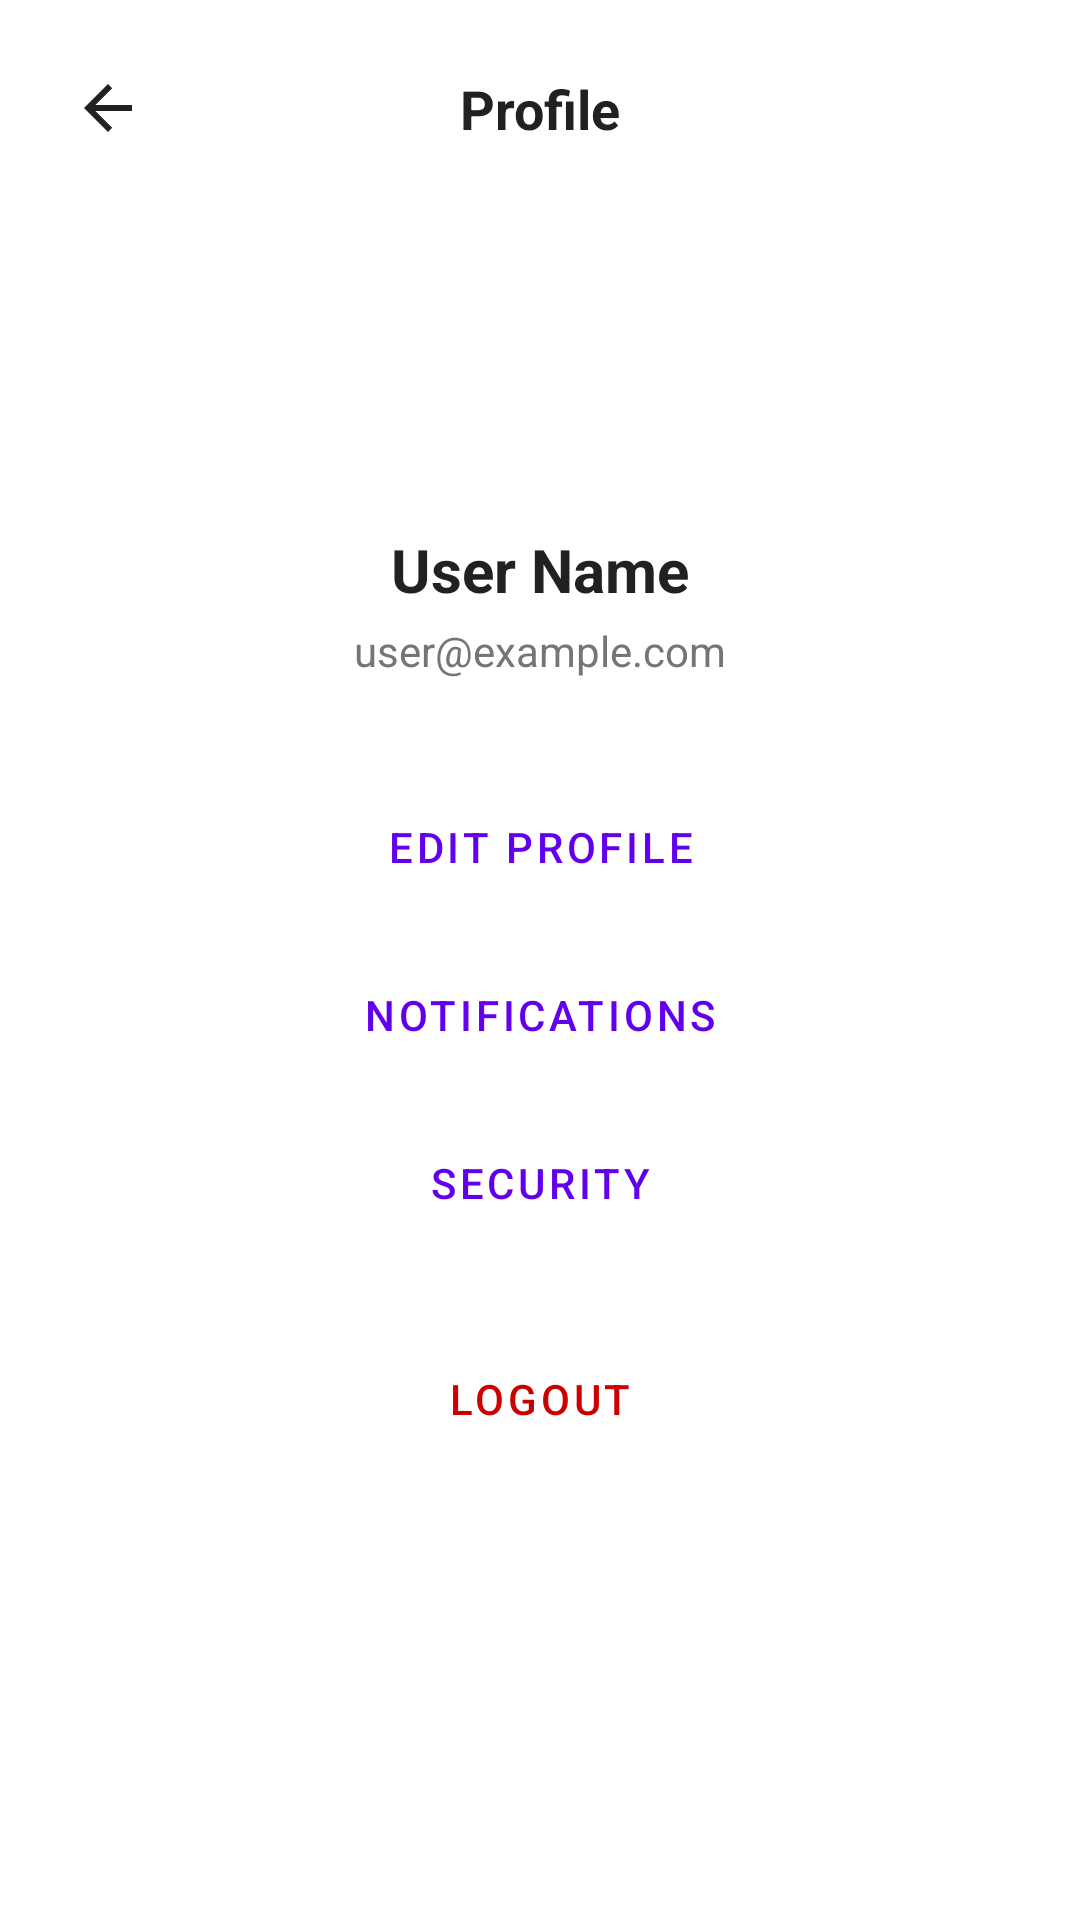

Named icons in this screenshot (1080*1920) and their bounding boxes, (x1, y1, x2, y2):
ab back: (84, 84, 132, 132)
